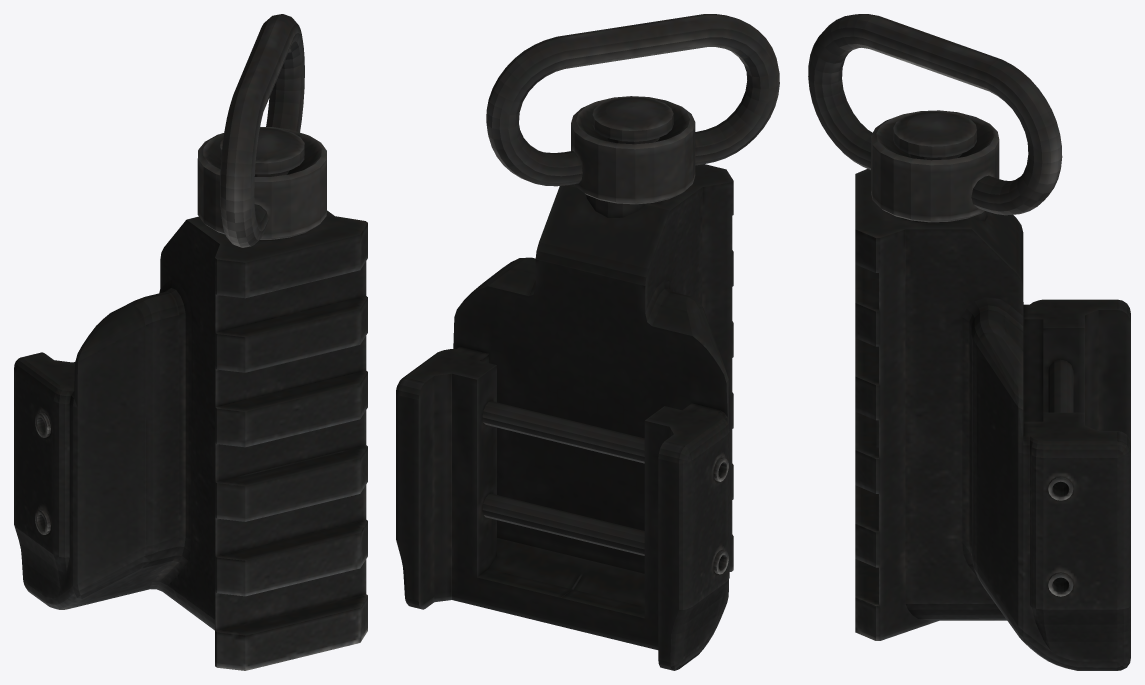
3 views of the same model, side by side, from view 1: azimuth 30°, elevation 25°; view 2: azimuth 150°, elevation 25°; view 3: azimuth 270°, elevation 25° (orthographic). The views are drawn at different scales.
Visible parts, largest first — view 1: TW_669cf78806768ff39504fc1c_PZ_Import; view 2: TW_669cf78806768ff39504fc1c_PZ_Import; view 3: TW_669cf78806768ff39504fc1c_PZ_Import.
Boxes of the visible parts, x1=… form: TW_669cf78806768ff39504fc1c_PZ_Import: x1=14, y1=14, x2=367, y2=670; TW_669cf78806768ff39504fc1c_PZ_Import: x1=396, y1=14, x2=779, y2=670; TW_669cf78806768ff39504fc1c_PZ_Import: x1=808, y1=14, x2=1130, y2=670.
Size of the model in its own units: 0.0256 by 0.023 by 0.0445.
Materials: 1 (1 with a texture image).
